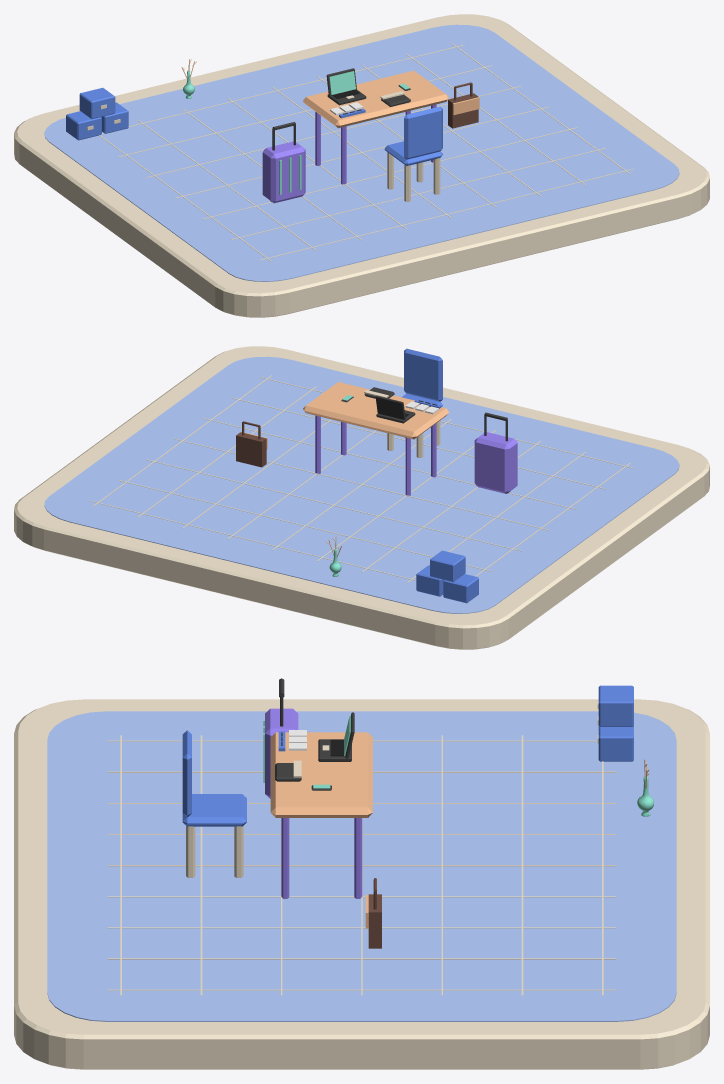
The picture shows the model from 3 angles, top to bottom: view 1: azimuth 30°, elevation 25°; view 2: azimuth 150°, elevation 25°; view 3: azimuth 270°, elevation 25°; orthographic projection. The views are drawn at different scales.
Visible parts, largest first — view 1: COM-02 Floor Surface, COM-01 Rounded Base Direct, Rounded table top, Shell, Backrest, Bag, Stacked case.002, Stacked case, Stacked case.001, Grout Y, Seat, Grout Y.001 (+1 smaller); view 2: COM-02 Floor Surface, COM-01 Rounded Base Direct, Rounded table top, Shell, Backrest, Bag, Stacked case.002, Stacked case, Stacked case.001, Grout Y.004, Hinged display, Grout Y.003 (+1 smaller); view 3: COM-02 Floor Surface, COM-01 Rounded Base Direct, Rounded table top, Seat, Stacked case.002, Stacked case.001, Shell, Grout X.008, Grout X.007, Grout X.006, Grout X.005, Grout X.004 (+8 smaller).
Part boxes in pixels (x1,y1,x2,y2): COM-02 Floor Surface: (44,24,679,281); COM-01 Rounded Base Direct: (14,14,709,317); Rounded table top: (303,70,449,128); Shell: (262,141,305,203); Backrest: (404,106,442,159); Bag: (448,82,479,128); Stacked case.002: (79,87,115,118); Stacked case: (66,111,101,140); Stacked case.001: (101,102,128,133); Grout Y: (259,168,633,260); Seat: (384,141,442,165); Grout Y.001: (231,148,605,239); COM-02 Floor Surface: (44,356,679,613); COM-01 Rounded Base Direct: (14,346,709,649); Rounded table top: (303,382,449,439); Shell: (474,432,517,493); Backrest: (404,348,442,401); Bag: (236,421,267,467); Stacked case.002: (430,550,465,581); Stacked case: (443,574,478,603); Stacked case.001: (416,565,443,596); Grout Y.004: (146,459,520,551); Hinged display: (375,395,405,420); Grout Y.003: (174,438,549,530); COM-02 Floor Surface: (47,711,676,1021); COM-01 Rounded Base Direct: (14,699,709,1069); Rounded table top: (270,732,372,817); Seat: (182,794,246,826); Stacked case.002: (598,685,633,726); Stacked case.001: (598,726,633,761); Shell: (265,708,298,798); Grout X.008: (107,989,616,990); Grout X.007: (107,958,616,959); Grout X.006: (107,927,616,928); Grout X.005: (107,896,616,897); Grout X.004: (107,865,616,866).
Bounding box in the file's own units: 6 × 1.35 × 5.2.
1 material, 1 textured.
